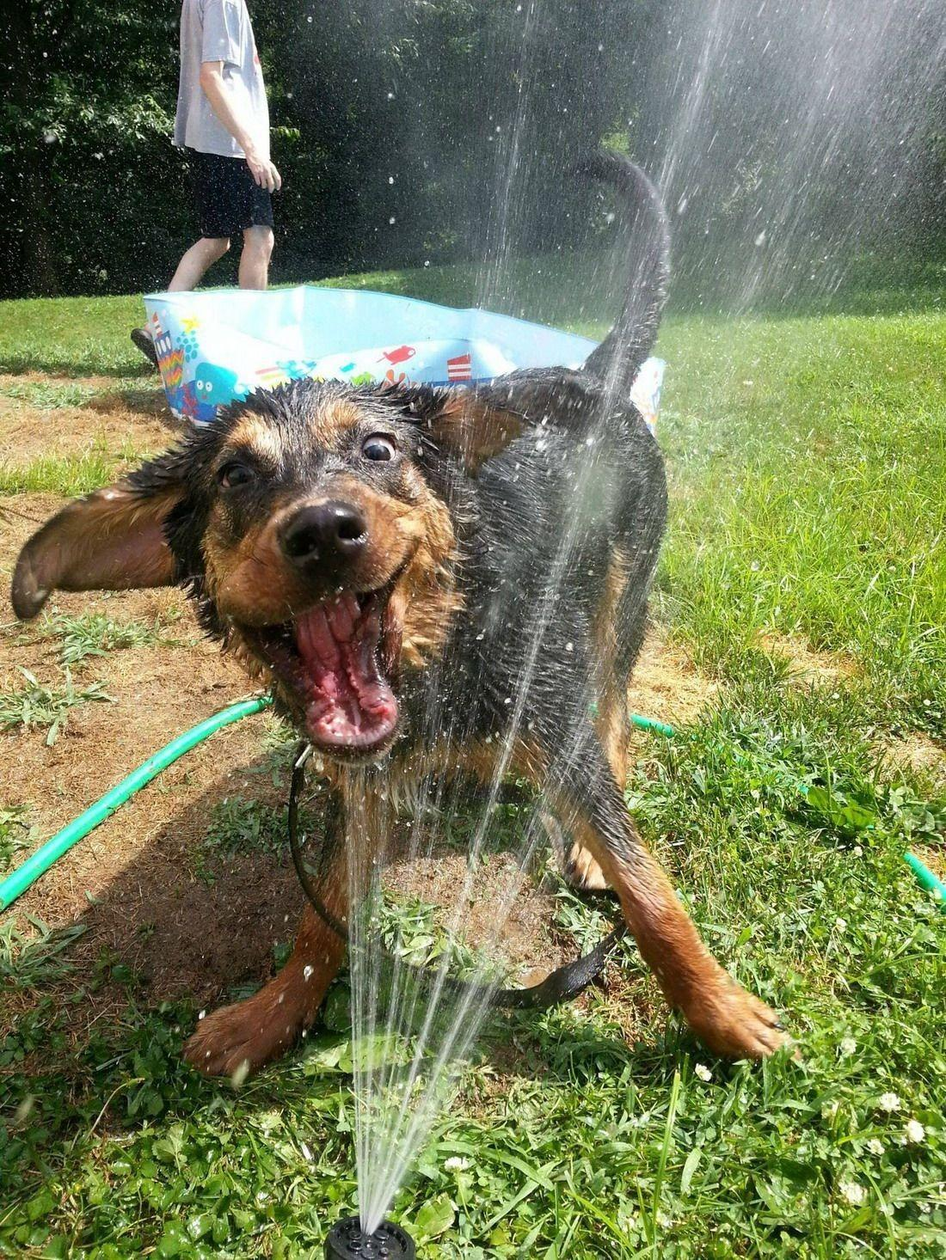adult_dog: (11, 145, 794, 1091)
non-dog: (123, 0, 284, 370)
